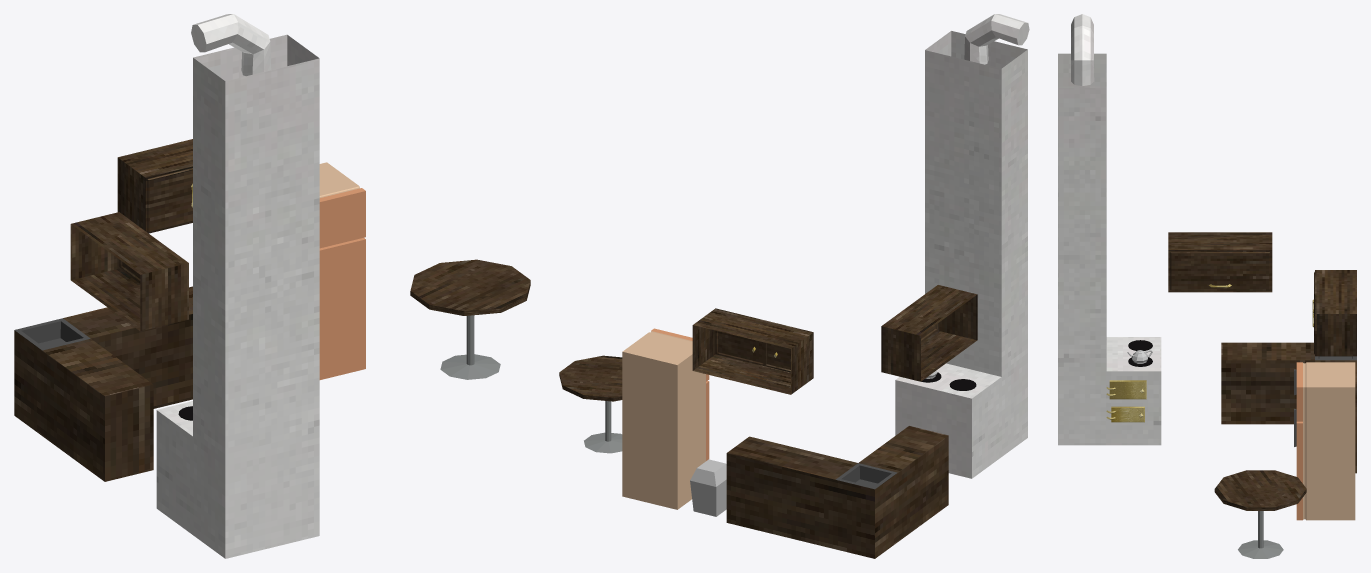
The model's file is KitchenFurniture.fbx.
3 views of the same model, side by side, from view 1: azimuth 30°, elevation 25°; view 2: azimuth 150°, elevation 25°; view 3: azimuth 270°, elevation 25° (orthographic). The views are drawn at different scales.
Visible parts, largest first — view 1: Pechka, Cube.032, Cube.034, Cube.031, Cylinder, Cube.035; view 2: Pechka, Cube.032, Cube.031, Cube.035, Cube.034, Cylinder, Cube.033; view 3: Pechka, Cube.031, Cube.032, Cube.034, Cylinder, Cube.035.
Part boxes in pixels (left/top/right/bottom): Pechka: left=156, top=14, right=319, bottom=558; Cube.032: left=14, top=286, right=192, bottom=481; Cube.034: left=70, top=212, right=188, bottom=331; Cube.031: left=319, top=162, right=365, bottom=379; Cylinder: left=410, top=259, right=530, bottom=379; Cube.035: left=117, top=139, right=192, bottom=233; Pechka: left=895, top=14, right=1029, bottom=478; Cube.032: left=726, top=426, right=948, bottom=558; Cube.031: left=622, top=328, right=709, bottom=509; Cube.035: left=692, top=308, right=813, bottom=394; Cube.034: left=881, top=285, right=977, bottom=381; Cylinder: left=559, top=355, right=622, bottom=453; Cube.033: left=690, top=459, right=726, bottom=516; Pechka: left=1058, top=14, right=1161, bottom=445; Cube.031: left=1294, top=362, right=1355, bottom=520; Cube.032: left=1221, top=342, right=1356, bottom=473; Cube.034: left=1168, top=232, right=1272, bottom=292; Cylinder: left=1214, top=470, right=1306, bottom=558; Cube.035: left=1312, top=270, right=1356, bottom=356.
Bounding box in the file's own units: 436 × 496 × 340.
